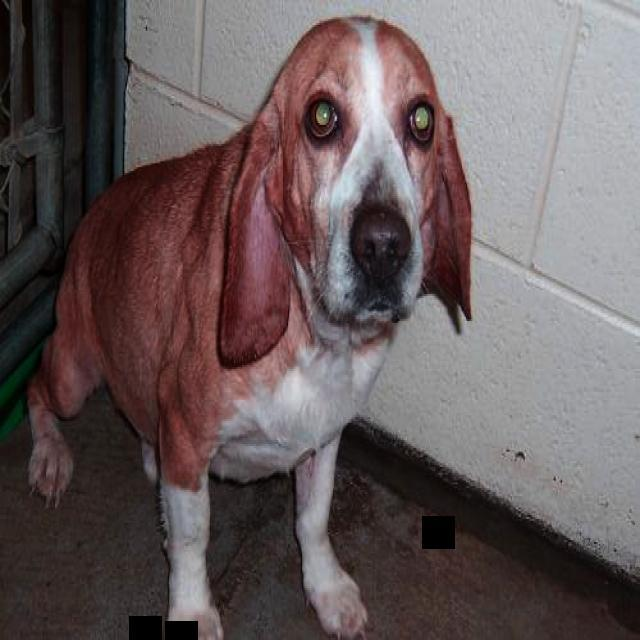adult_dog: (25, 15, 477, 640)
